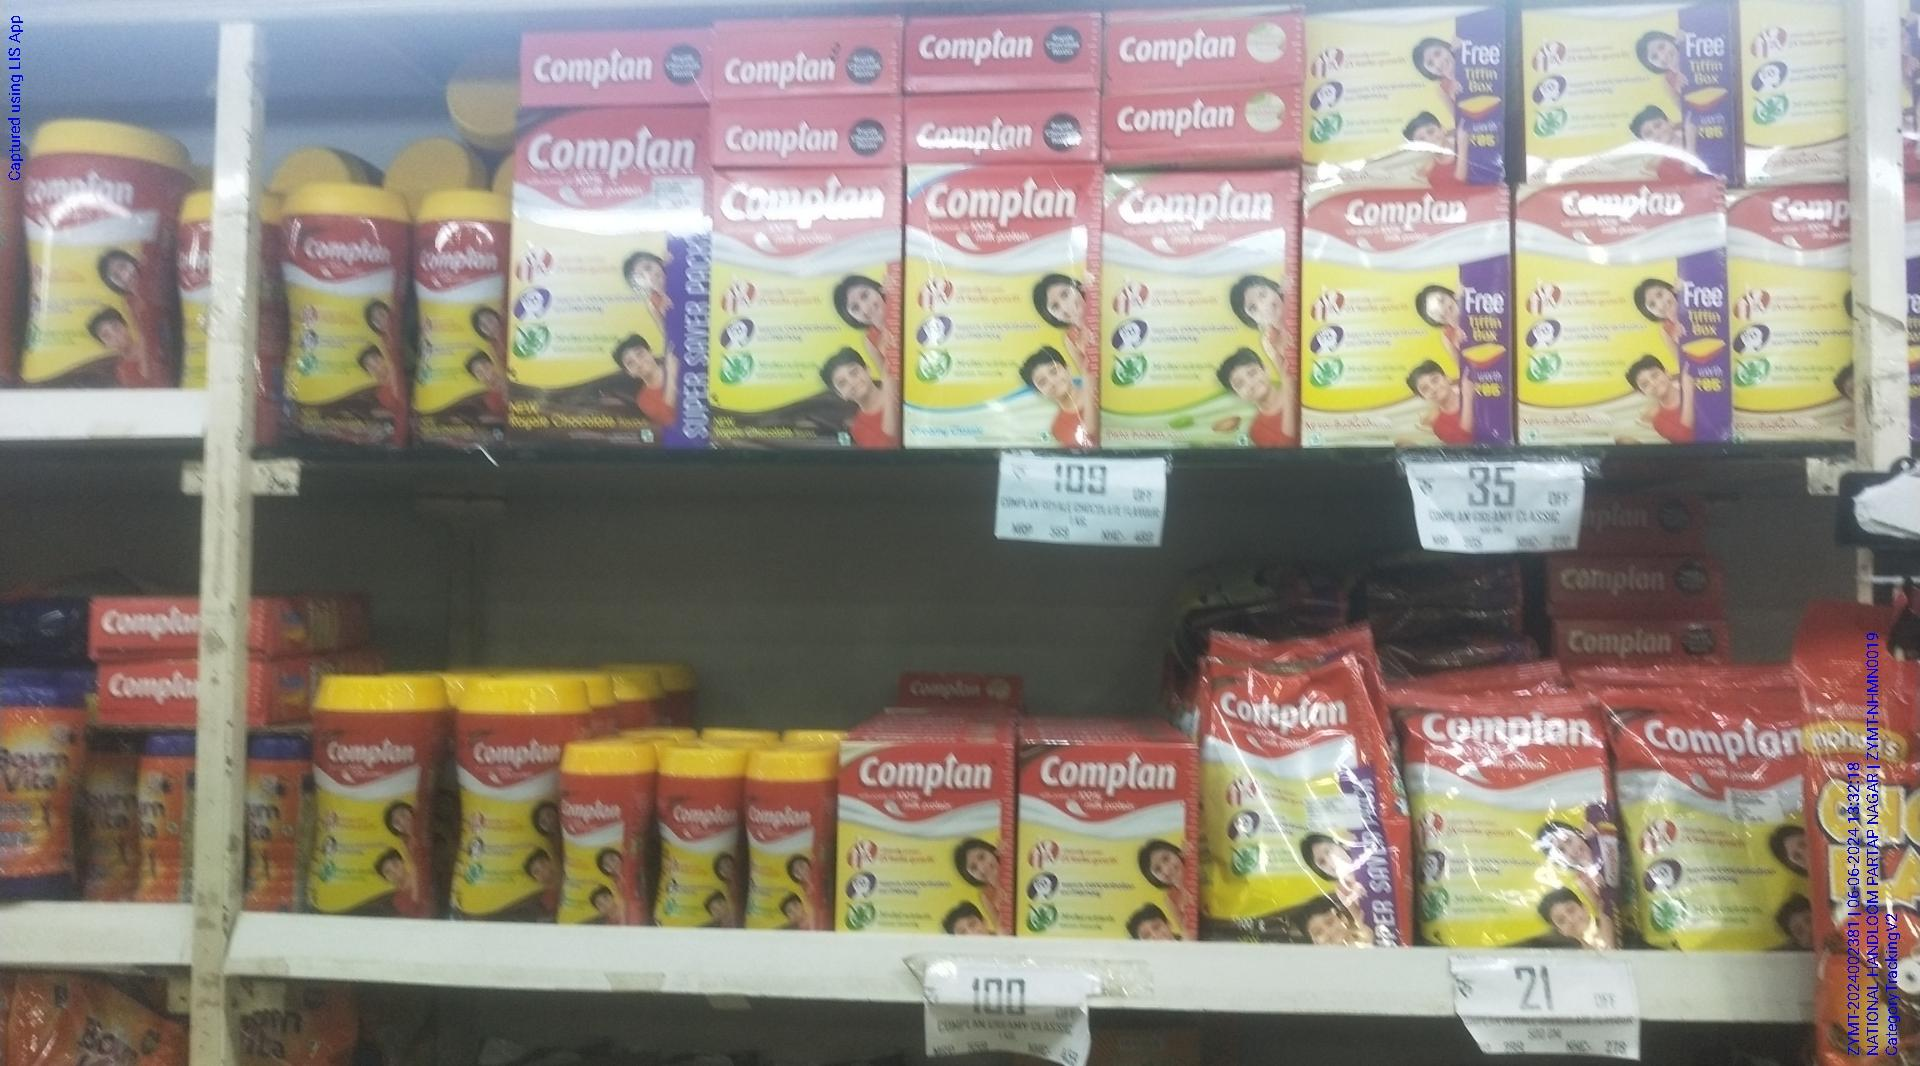COMPLAN_CHOCOLATE_200_GMS_JAR: (420, 185, 509, 441), (559, 740, 654, 924), (660, 743, 741, 929), (749, 746, 823, 924)
COMPLAN_CHOCOLATE_500_GMS_JAR: (282, 180, 413, 445), (302, 673, 444, 918), (453, 671, 556, 916)
COMPLAN_RC_POUCH_700_GMS_12: (1209, 656, 1408, 943)
